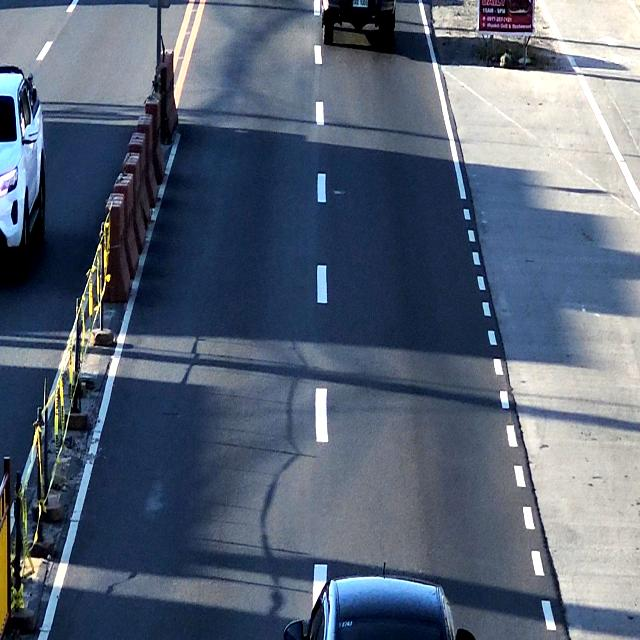Car: (292, 573, 467, 640), (315, 0, 402, 43)
